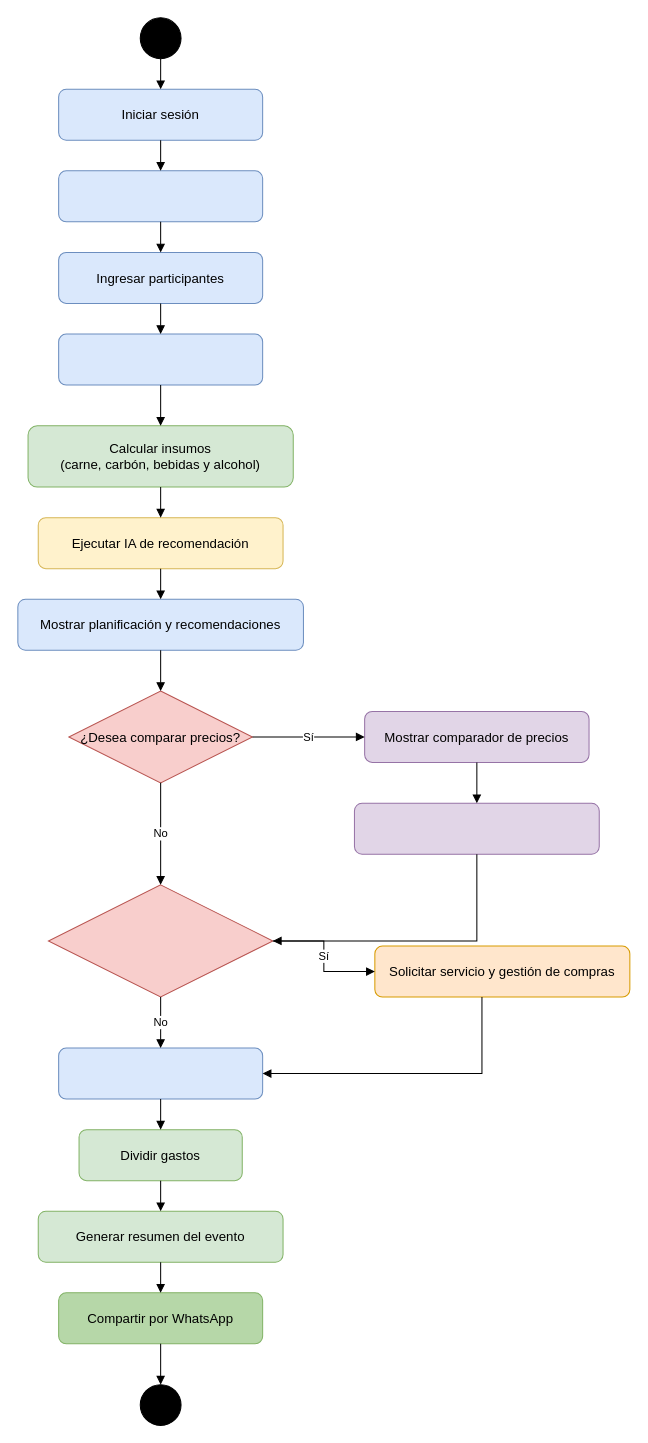
Some shapes in this 648 by 1443 pixel diagram are drawn without their labels. The shapes that lost their labels are listed below. From the top down, each one's box as (x1, y1, x2, y2) in pixels, then its label:
(58, 170, 263, 222): Crear evento de asado
(58, 333, 263, 385): Definir perfil de consumo
(353, 802, 599, 854): Seleccionar mejor opción de compra
(47, 884, 273, 997): ¿Desea contratar servicio de asado a domicilio?
(58, 1047, 263, 1099): Confirmar planificación
